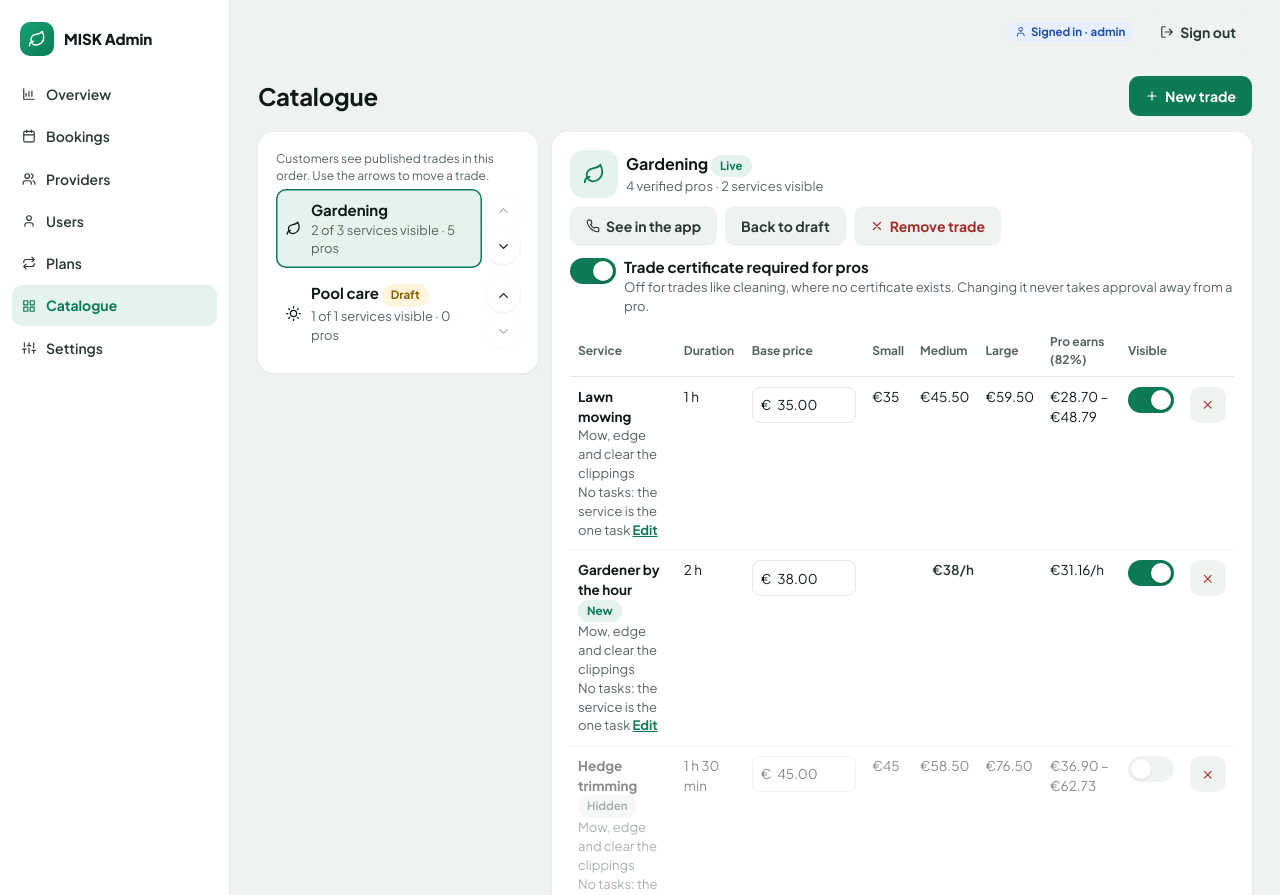
Test: catalogue page › says when the trade list changed meanwhile
Click the button named "Move Pool care up". click: coordinates (503, 295)
box: [486, 278, 520, 312]
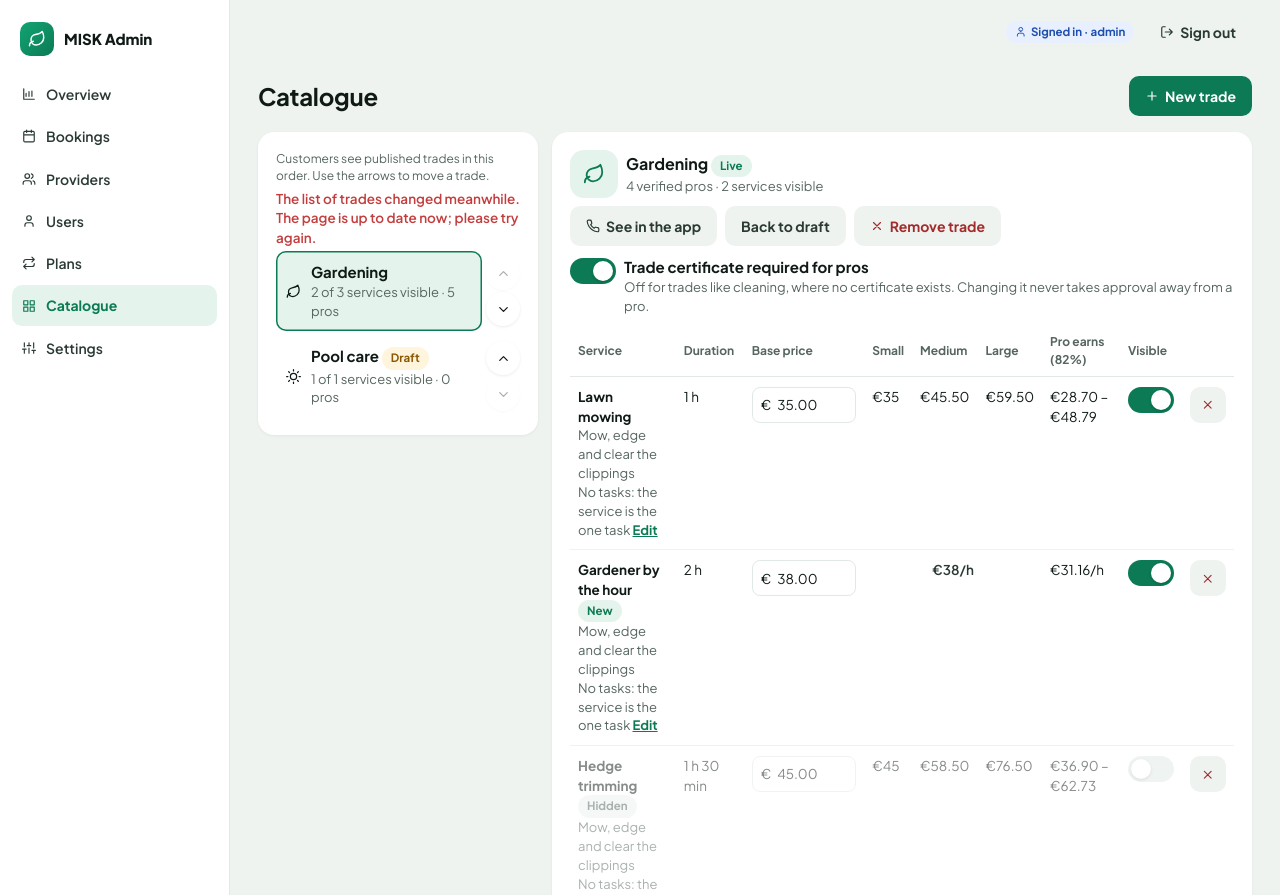
Check: the text "The list of trades changed meanwhile" is shown, box [276, 190, 520, 246]
